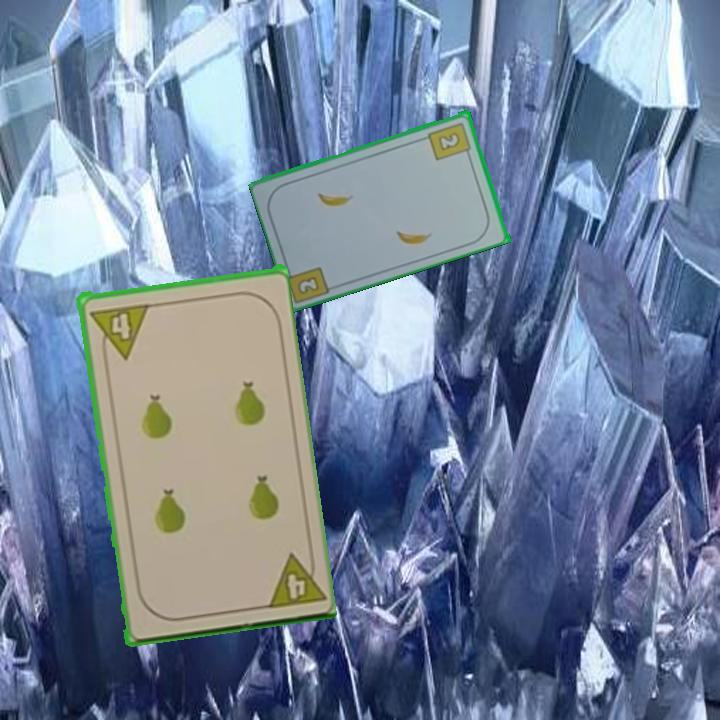2b: (425, 118, 474, 163), (294, 272, 322, 297)
4p: (260, 546, 325, 612), (85, 300, 151, 363)
